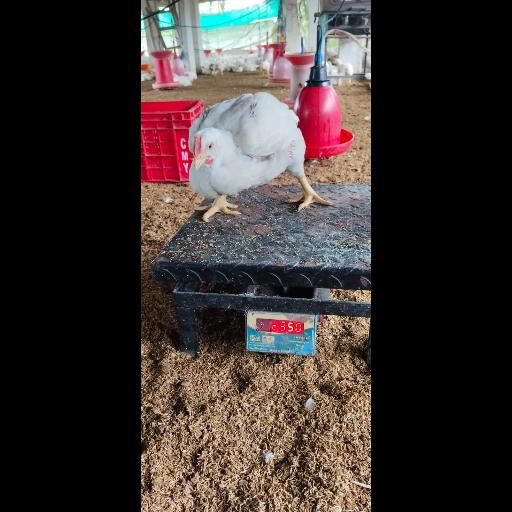chick: (189, 93, 339, 221)
